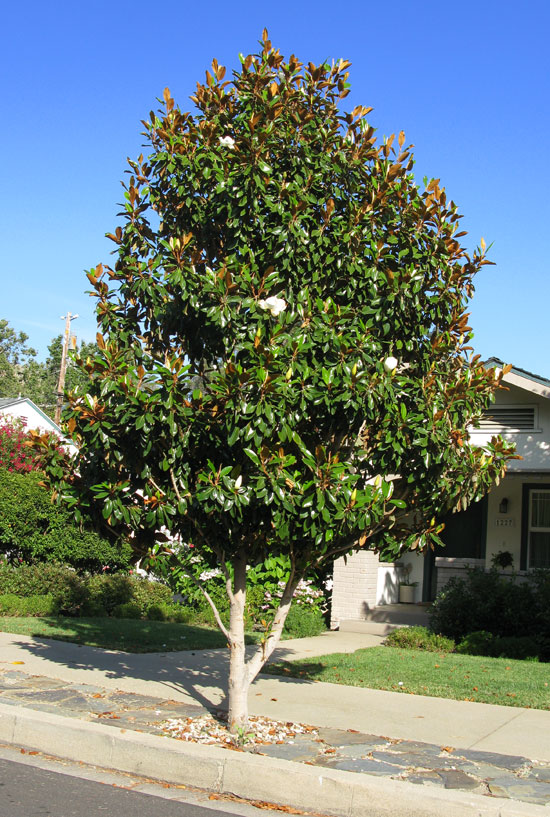tree: (55, 28, 525, 741)
